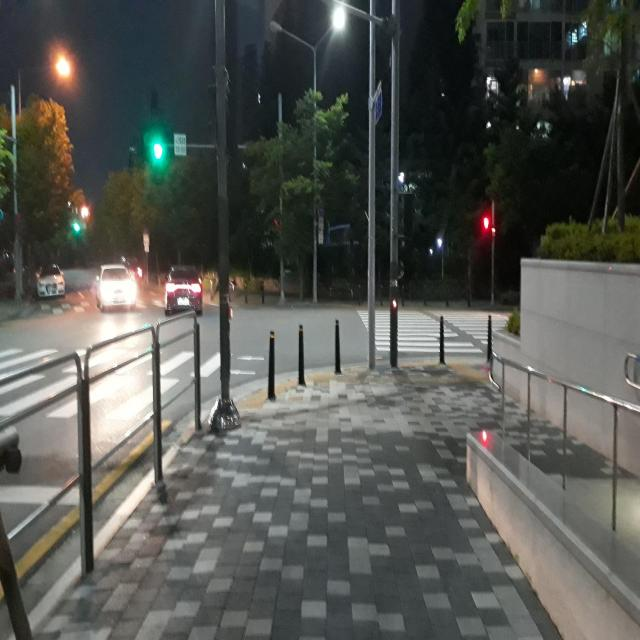빨간불: (478, 207, 490, 247)
횡단보도: (0, 343, 233, 432), (356, 310, 509, 354)
